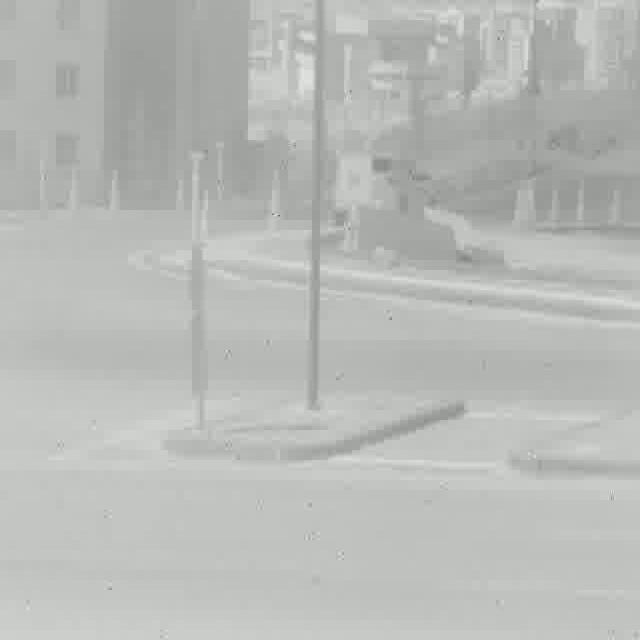Car: (335, 149, 415, 221)
